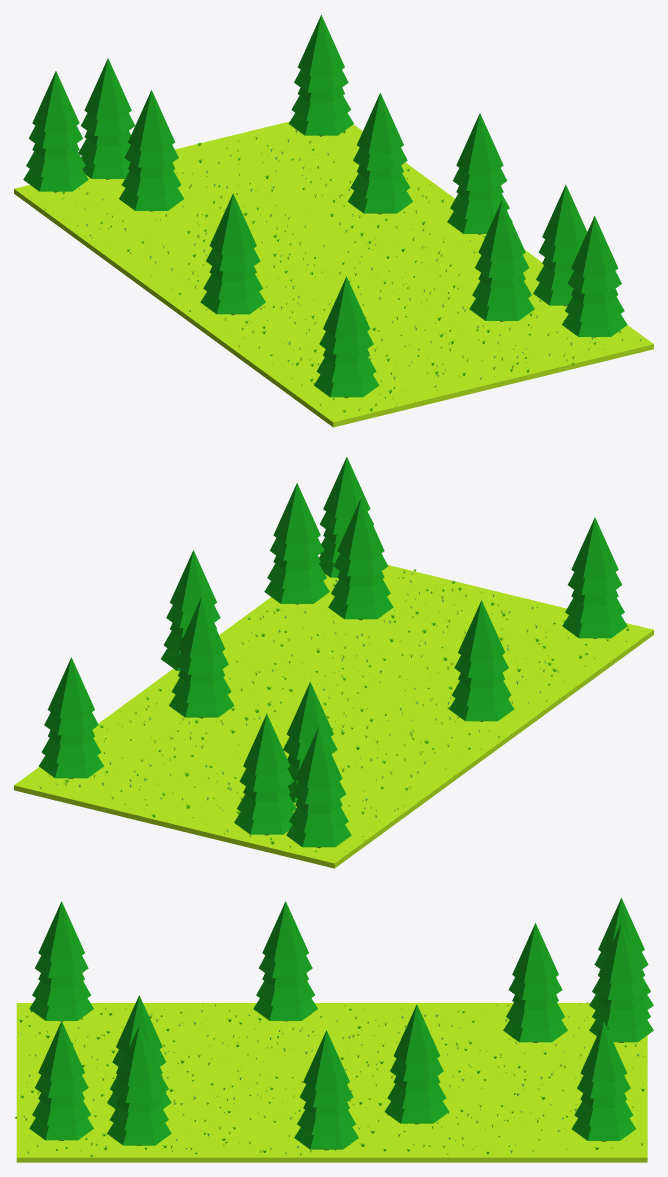
The model's file is Forest.fbx.
3 renders of one model, top to bottom at view 1: azimuth 30°, elevation 25°; view 2: azimuth 150°, elevation 25°; view 3: azimuth 270°, elevation 25°, orthographic.
Parts seen in each view (by area): view 1: Cube, Cube.007, Cube.012, Cube.002, Cube.011, Cube.008, Cube.006, Cube.010, Cube.004, Cube.009, Cube.001, Cube.005; view 2: Cube, Cube.012, Cube.007, Cube.004, Cube.011, Cube.008, Cube.005, Cube.002, Cube.009, Cube.006, Cube.001, Cube.010; view 3: Cube, Cube.010, Cube.005, Cube.006, Cube.012, Cube.007, Cube.001, Cube.002, Cube.011, Cube.009, Cube.004, Cube.008.
Part boxes in pixels (<box>): Cube: <box>14,121,653,427</box>; Cube.007: <box>314,276,379,398</box>; Cube.012: <box>200,193,265,315</box>; Cube.002: <box>347,93,412,214</box>; Cube.011: <box>288,15,353,136</box>; Cube.008: <box>23,71,88,192</box>; Cube.006: <box>562,216,627,337</box>; Cube.010: <box>119,90,184,211</box>; Cube.004: <box>469,200,534,321</box>; Cube.009: <box>78,58,135,179</box>; Cube.001: <box>447,113,512,234</box>; Cube.005: <box>533,184,587,306</box>; Cube: <box>14,565,653,868</box>; Cube.012: <box>449,600,514,721</box>; Cube.007: <box>562,517,627,638</box>; Cube.004: <box>328,498,393,620</box>; Cube.011: <box>39,657,103,778</box>; Cube.008: <box>286,726,351,848</box>; Cube.005: <box>264,483,329,604</box>; Cube.002: <box>169,597,234,718</box>; Cube.009: <box>234,713,296,835</box>; Cube.006: <box>319,457,373,577</box>; Cube.001: <box>161,550,220,670</box>; Cube.010: <box>283,682,337,802</box>; Cube: <box>16,1003,647,1162</box>; Cube.010: <box>503,923,567,1042</box>; Cube.005: <box>107,1026,171,1145</box>; Cube.006: <box>29,1021,93,1140</box>; Cube.012: <box>253,901,317,1021</box>; Cube.007: <box>29,901,93,1021</box>; Cube.001: <box>294,1030,358,1150</box>; Cube.002: <box>384,1004,448,1124</box>; Cube.011: <box>571,1021,635,1141</box>; Cube.009: <box>589,923,653,1042</box>; Cube.004: <box>107,995,171,1108</box>; Cube.008: <box>589,898,653,1009</box>.
Bounding box in the file's own units: 20763 × 7591 × 35403.
